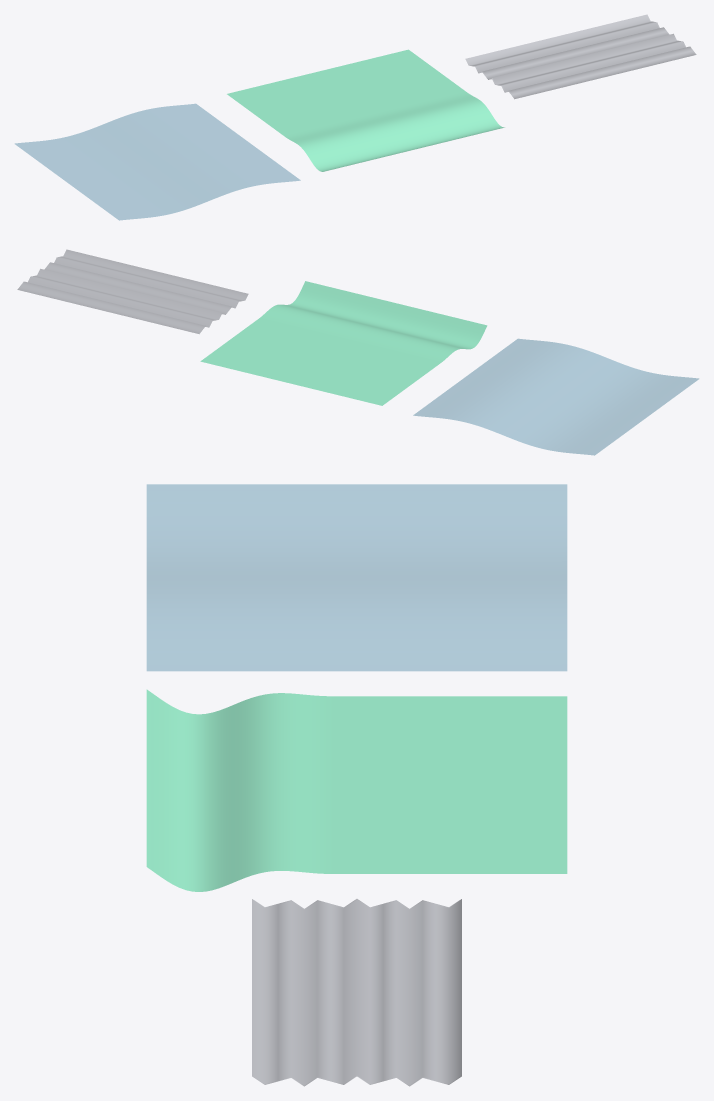
File: wave_water.glb
3 views of the same model, one above another, from view 1: azimuth 30°, elevation 25°; view 2: azimuth 150°, elevation 25°; view 3: azimuth 270°, elevation 25° (orthographic). The views are drawn at different scales.
Visible parts, largest first — view 1: surf, pond, ribs; view 2: surf, pond, ribs; view 3: pond, surf, ribs.
Part boxes in pixels (bbox=[...]): surf: bbox=[227, 49, 504, 171]; pond: bbox=[15, 103, 300, 220]; ribs: bbox=[465, 14, 696, 99]; surf: bbox=[200, 281, 487, 405]; pond: bbox=[413, 338, 698, 455]; ribs: bbox=[17, 249, 248, 334]; pond: bbox=[146, 484, 567, 671]; surf: bbox=[146, 689, 567, 891]; ribs: bbox=[252, 899, 461, 1086].
Bounding box in the file's own units: 10 × 0.202 × 3.
